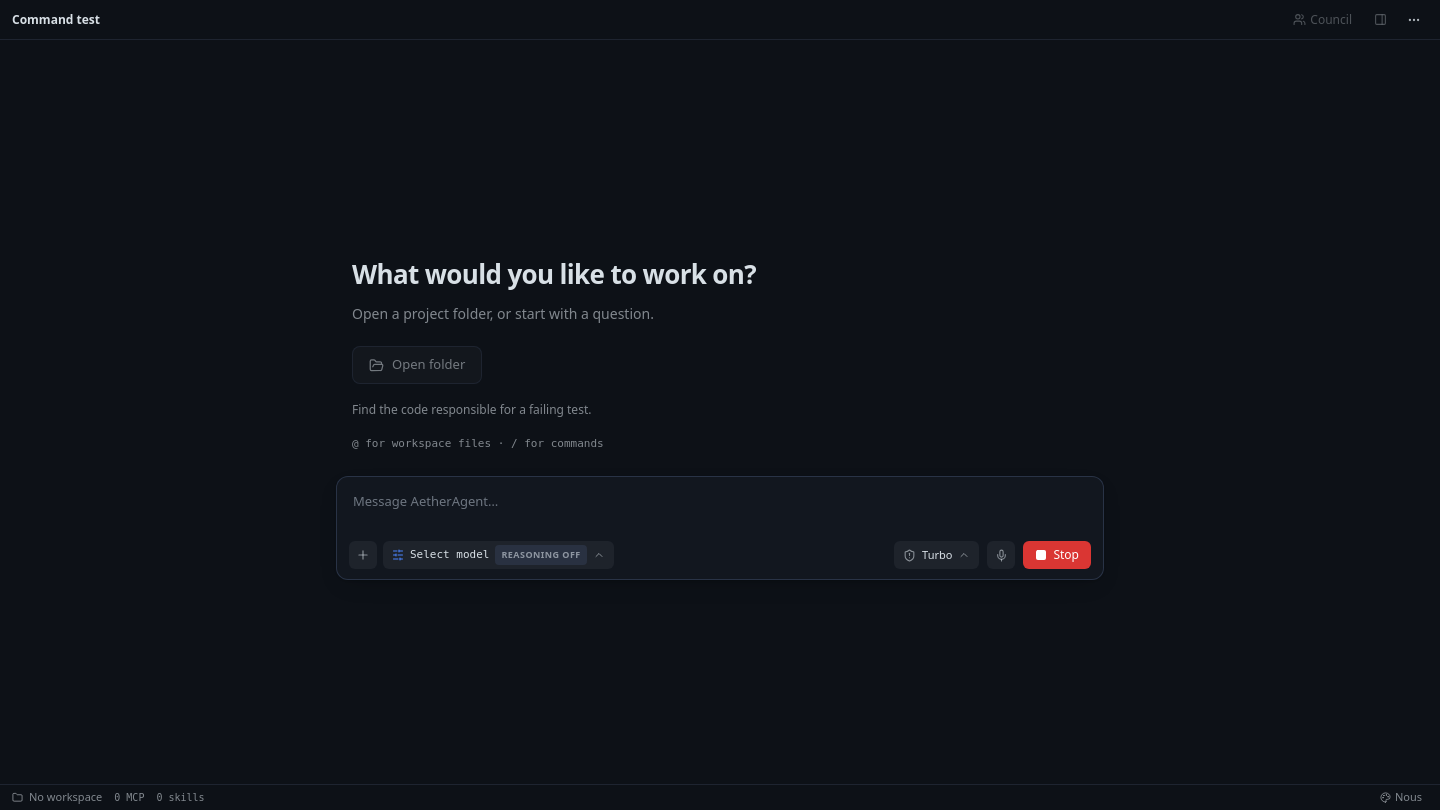
Test case: ChatCanvas prompt queueing › allows editing a queued prompt back into the composer
The image size is (1440, 810).
Type "First instruction to edit" into the text box at x=720, y=508, box top-left (337, 477), bottom-right (1103, 539)
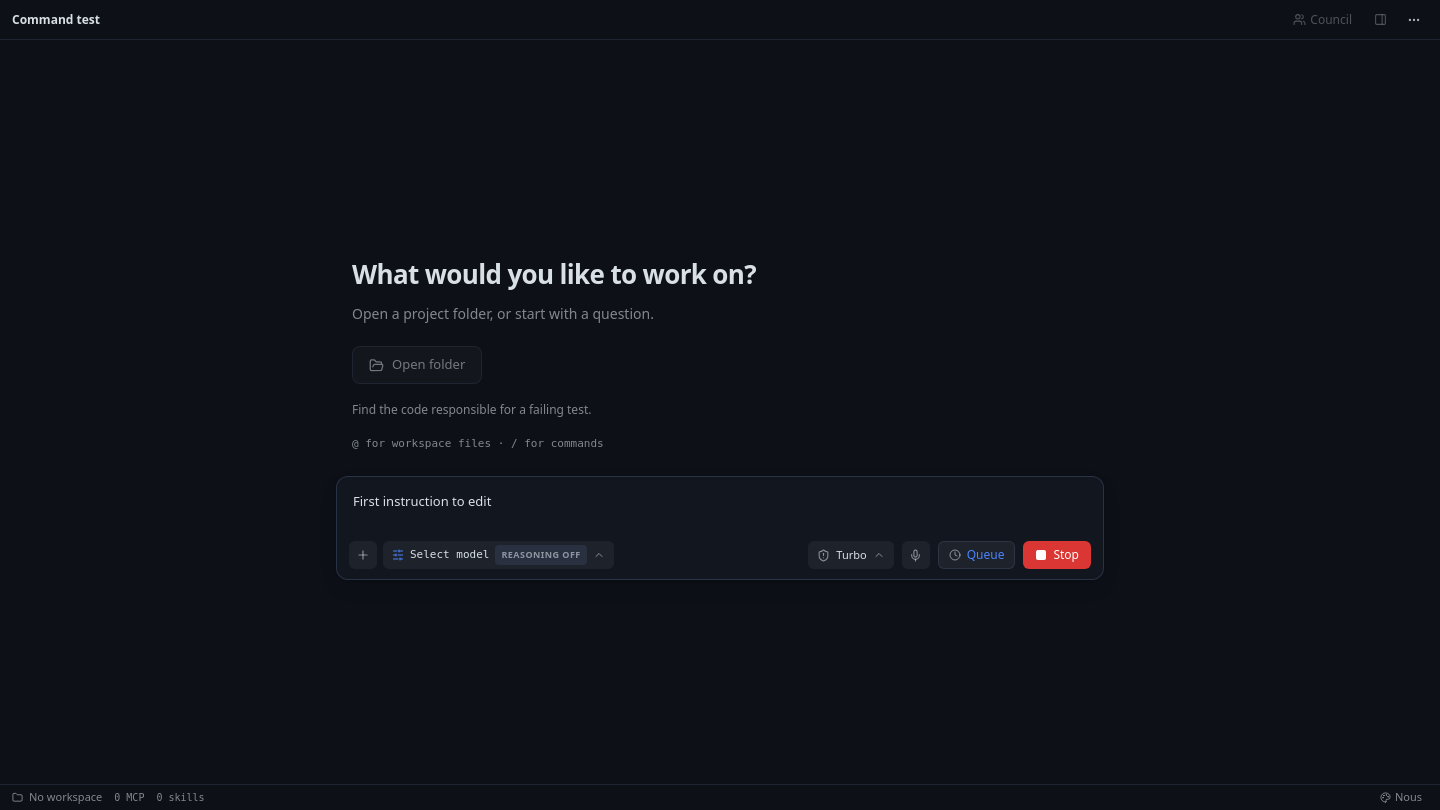
Press Enter in the text box, box top-left (337, 477), bottom-right (1103, 539)
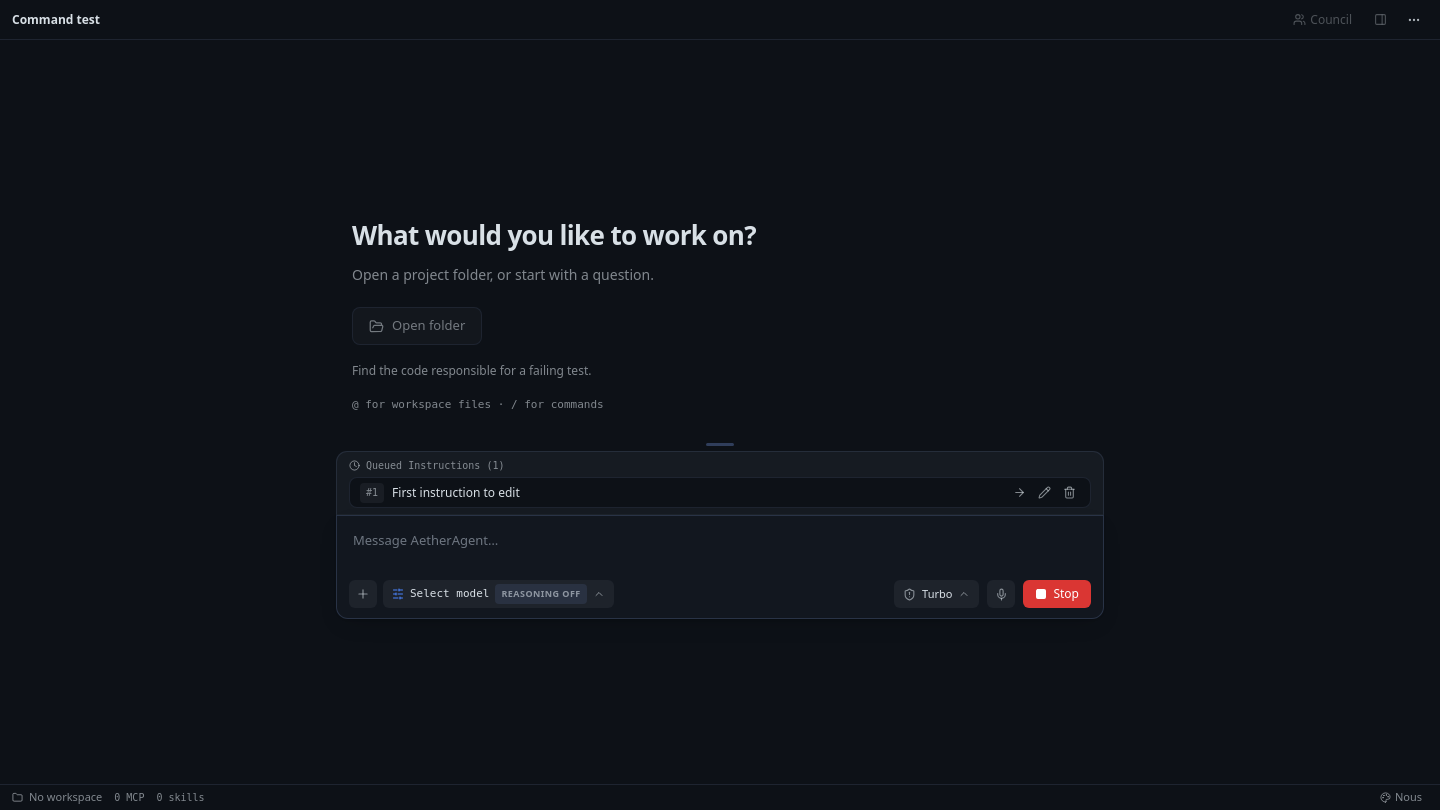
Check: the text "First instruction to edit" is shown, box top-left (392, 485), bottom-right (520, 501)
Check: the text box is empty, box top-left (337, 516), bottom-right (1103, 578)
# Click Edit button
Click the button named "Edit" at x=1044, y=493, box top-left (1034, 482), bottom-right (1055, 503)
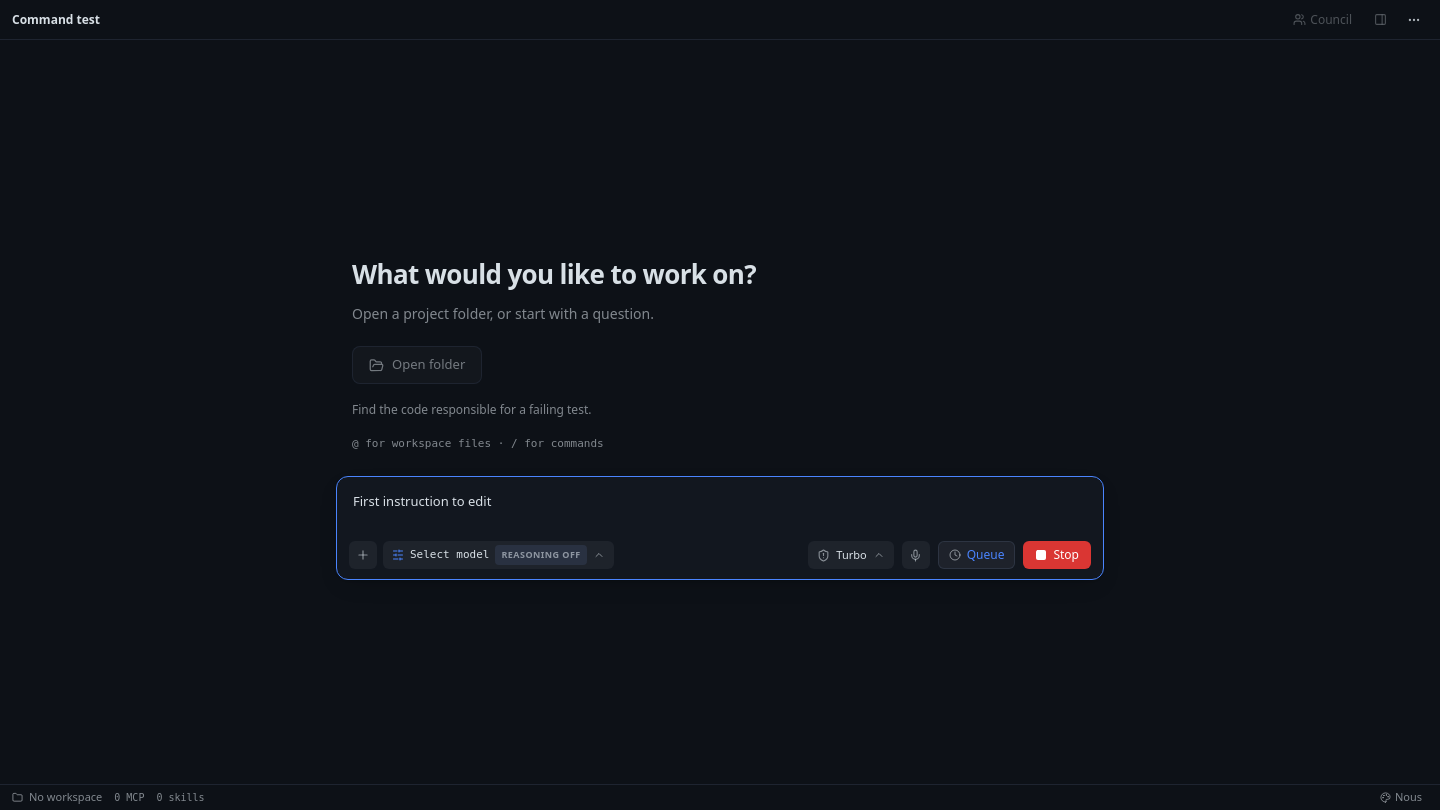
Check: the element with test id "queued-prompts-banner" is gone
